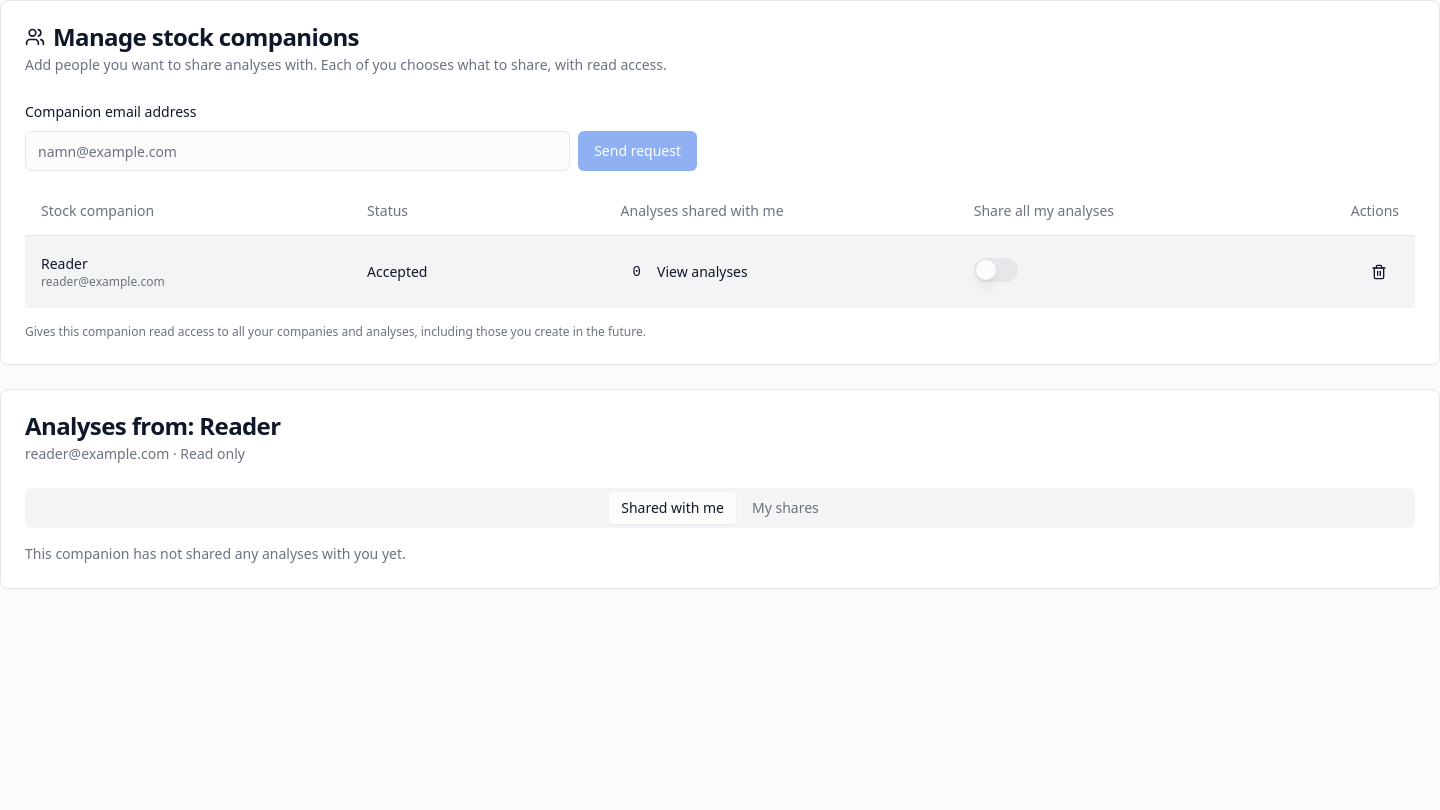
stock companion page › explains revocation in both directions before removing a companion
The image size is (1440, 810).
Step 1. Click the button named "Remove companion: reader@example.com" → (1379,272), box [1359,252,1399,292]
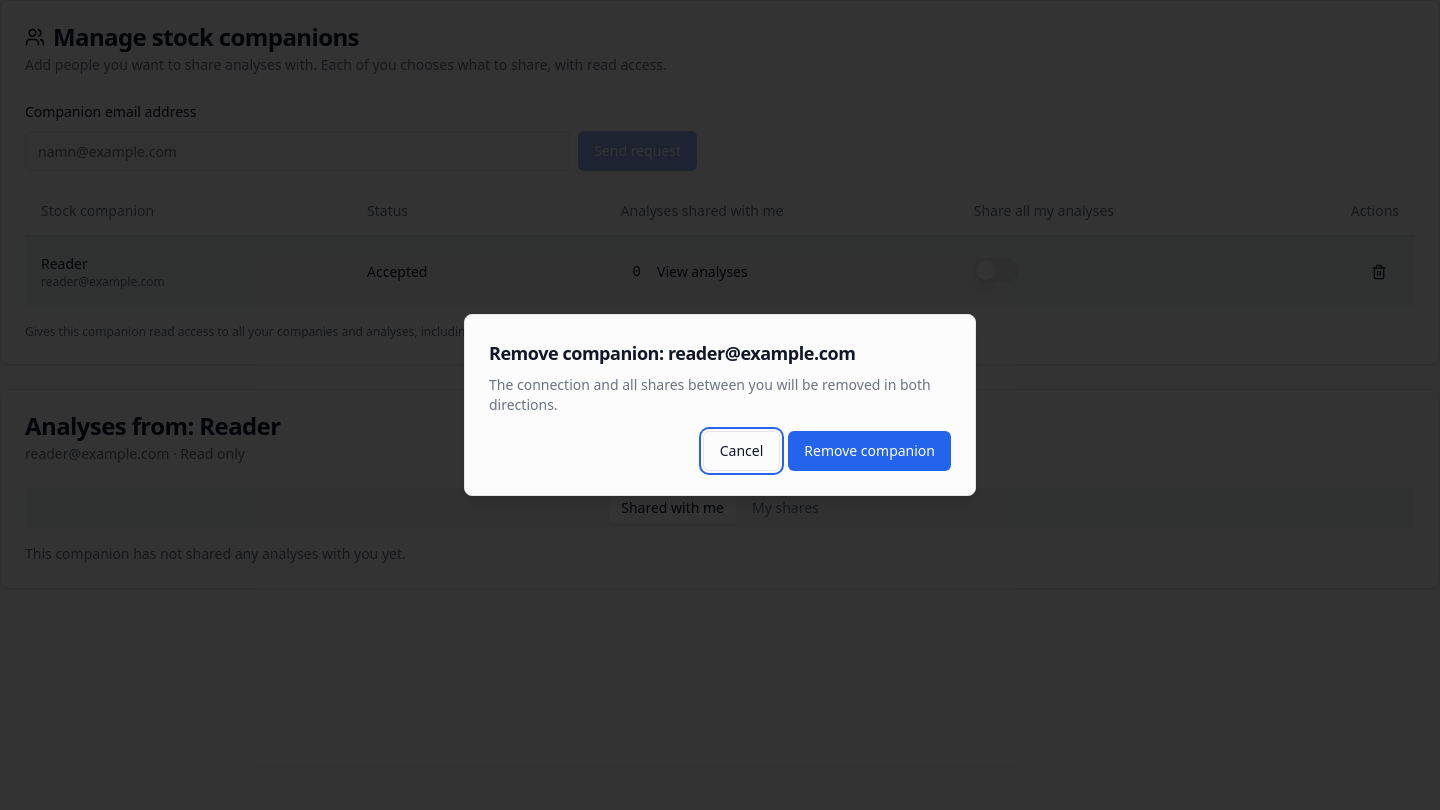
Check: the text "removed in both directions" is shown, box [489,375,931,414]
Step 2. Click the button "Remove companion" → (870,451), box [788,431,951,471]
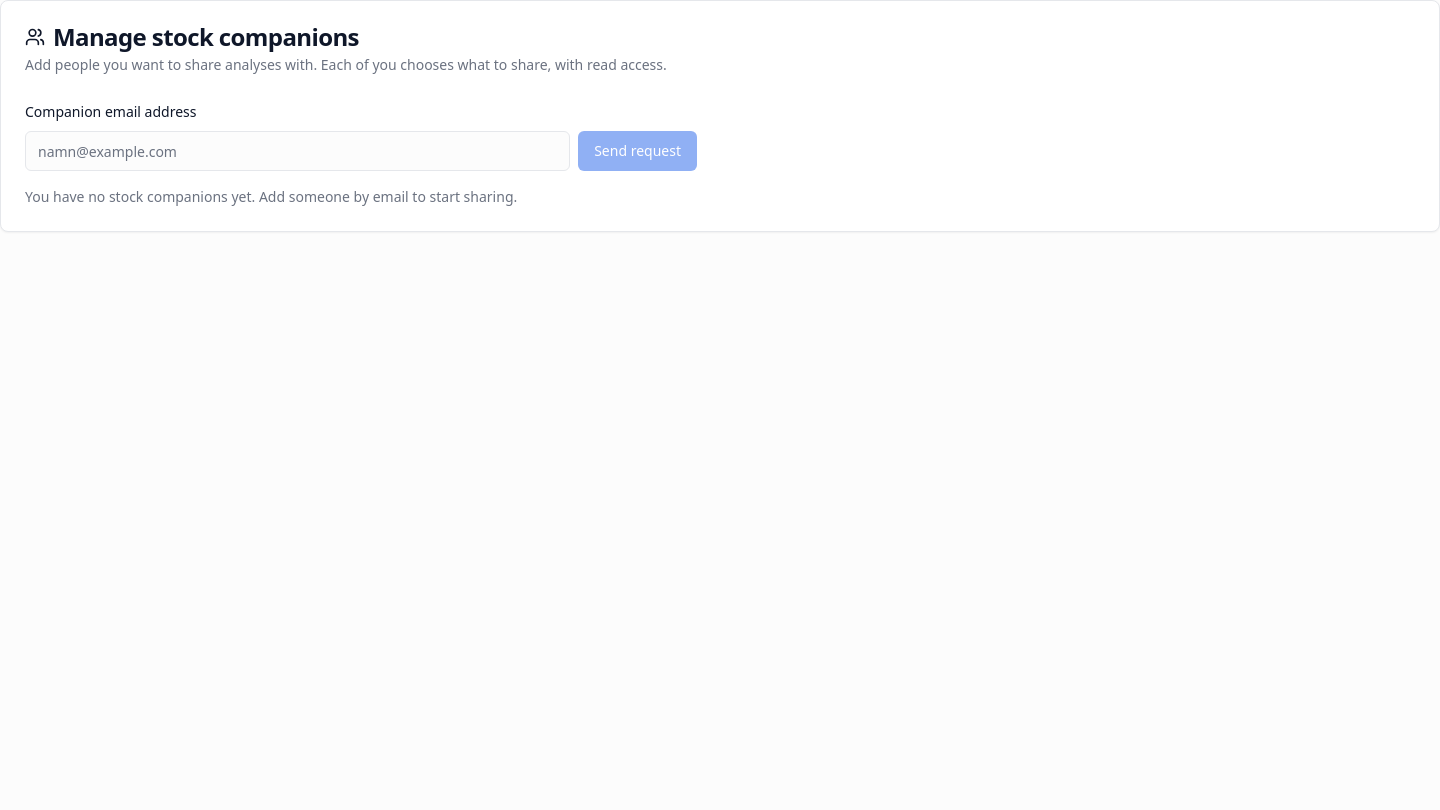
Check: the text "You have no stock companions yet" is shown, box [25,187,517,206]
